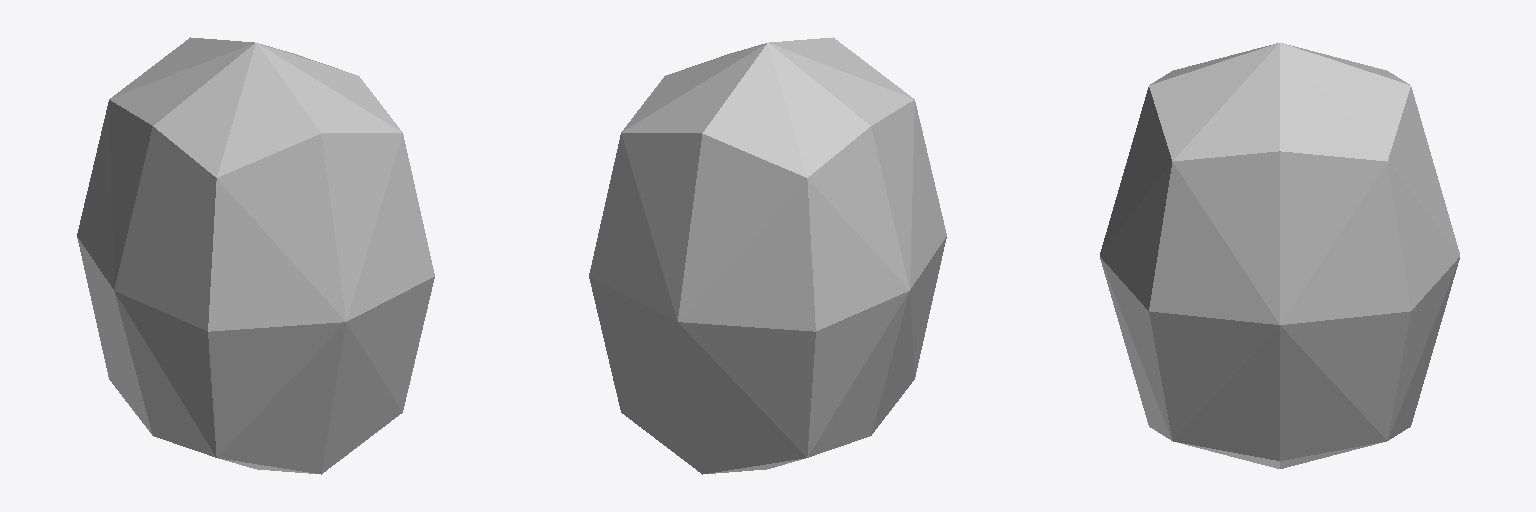
Rendered from teste.obj.
3 renders of one model, left to right at view 1: azimuth 30°, elevation 25°; view 2: azimuth 150°, elevation 25°; view 3: azimuth 270°, elevation 25°, orthographic.
Visible parts, largest first — view 1: Cube.006; view 2: Cube.006; view 3: Cube.006.
Boxes of the visible parts, <box> form: Cube.006: <box>77,37,434,474</box>; Cube.006: <box>589,37,946,474</box>; Cube.006: <box>1100,43,1459,468</box>.
Bounding box in the file's own units: 1.56 × 2.25 × 1.72.